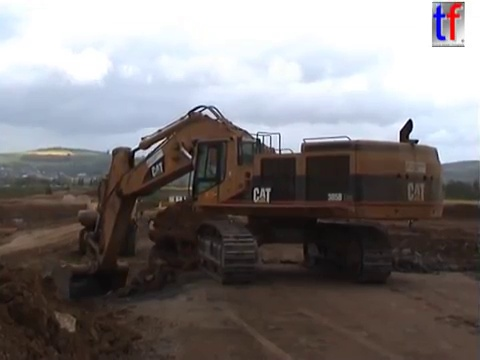excavator: (65, 101, 447, 302)
truck: (147, 194, 281, 269), (73, 192, 142, 259), (43, 184, 54, 196), (62, 183, 71, 193)
worker: (404, 205, 418, 230)
